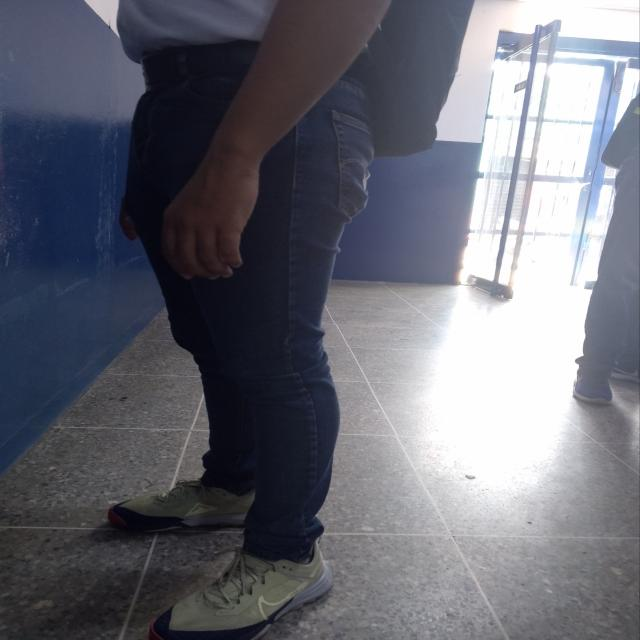pantalon_oscuro: (126, 68, 377, 566)
